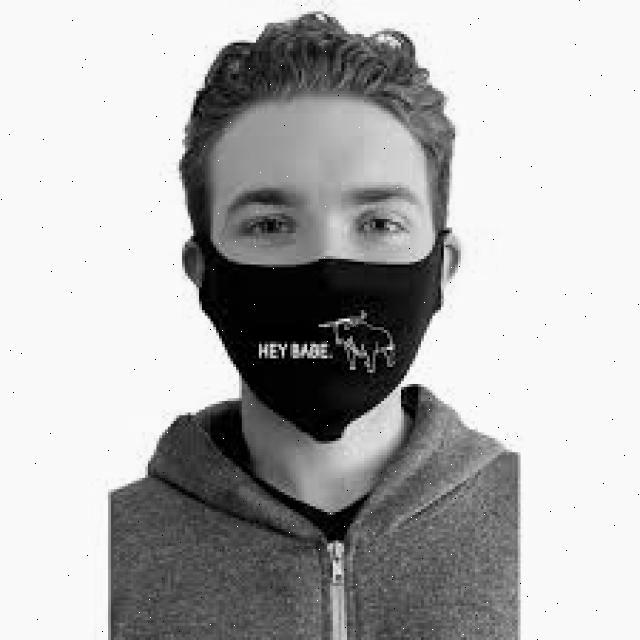fake: (197, 242, 453, 443)
real: (205, 97, 439, 446)
